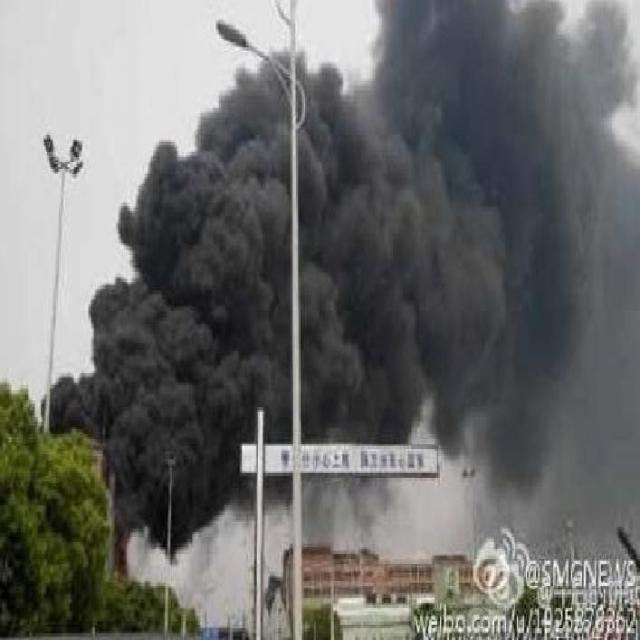Smoke: (40, 1, 640, 564)
